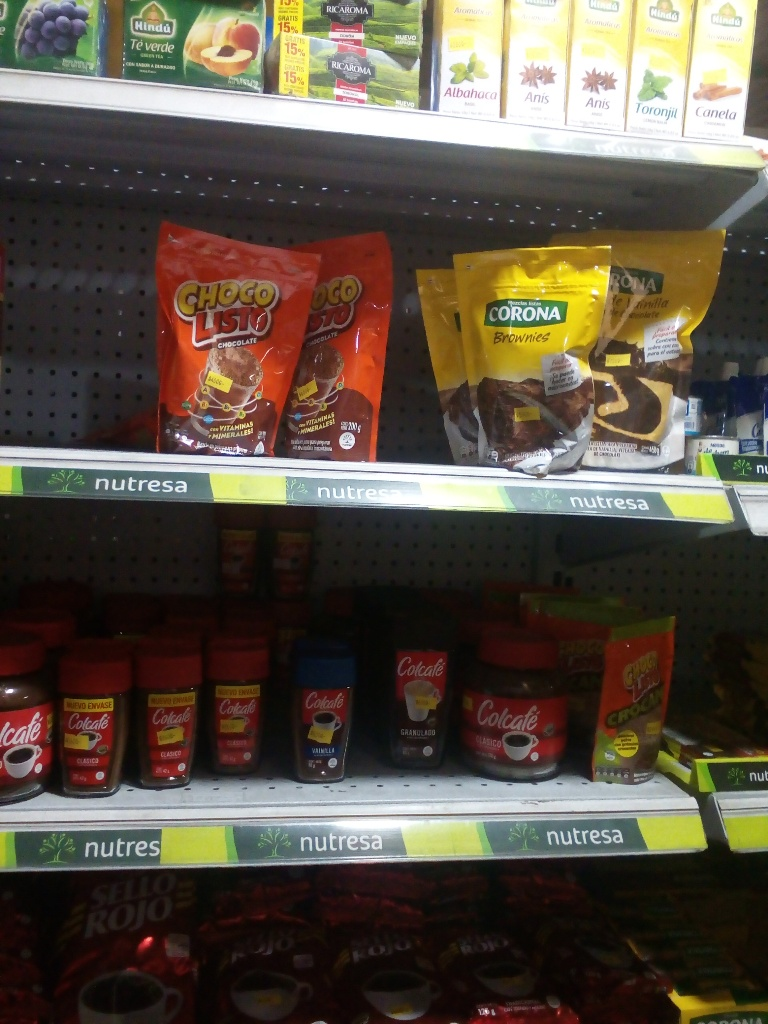COL0170102DYP10000: (585, 633, 692, 798)
COL0170103DYP20000: (147, 217, 309, 458)
